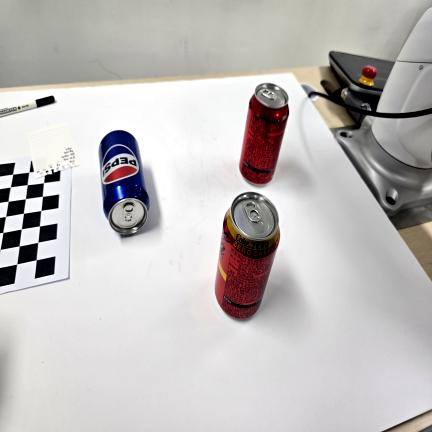can_coke_decaf: (214, 193, 281, 318)
can_coke_zero: (239, 83, 290, 184)
can_pepsi: (99, 131, 149, 234)
